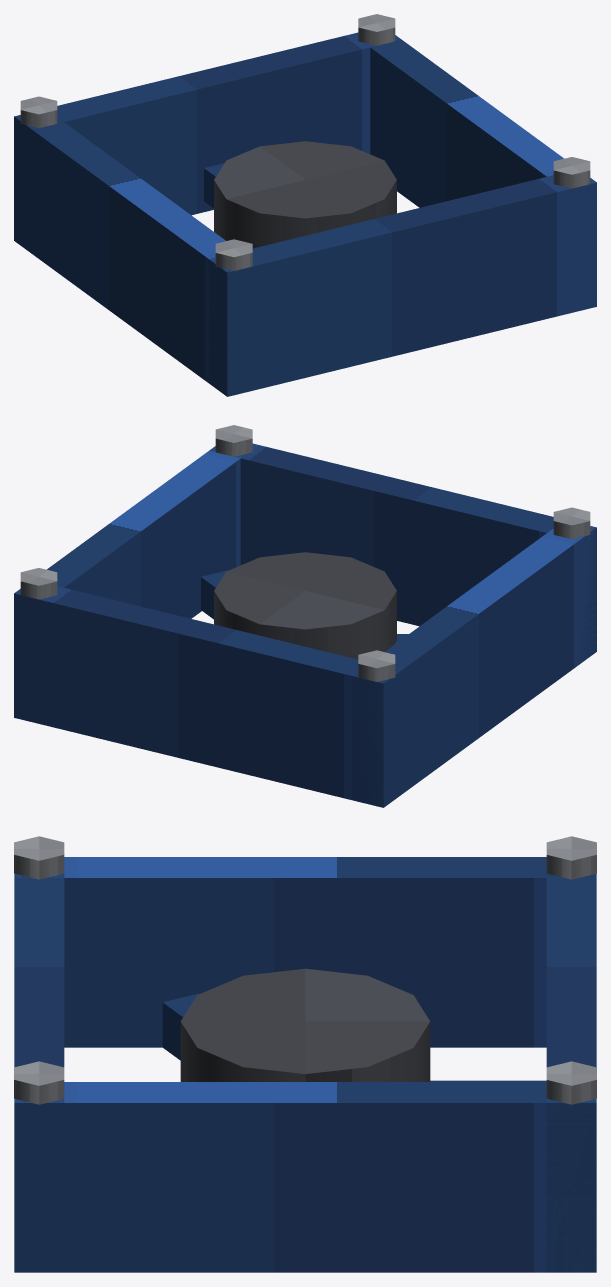
File: rack_fan_frame_hp.obj
The picture shows the model from 3 angles, top to bottom: view 1: azimuth 30°, elevation 25°; view 2: azimuth 150°, elevation 25°; view 3: azimuth 270°, elevation 25°; orthographic projection. The views are drawn at different scales.
Bounding box in the file's own units: 0.142 × 0.05 × 0.1401.
